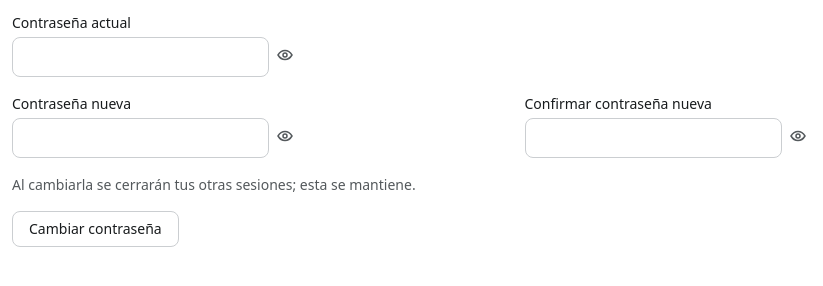
Scenario: FormularioContrasena › exige confirmación coincidente y que la nueva sea distinta de la actual
Type "contrasena-larga" into the password field labelled "Contraseña actual".
click(140, 57); type("contrasena-larga")  # box left=12, top=37, right=269, bottom=77
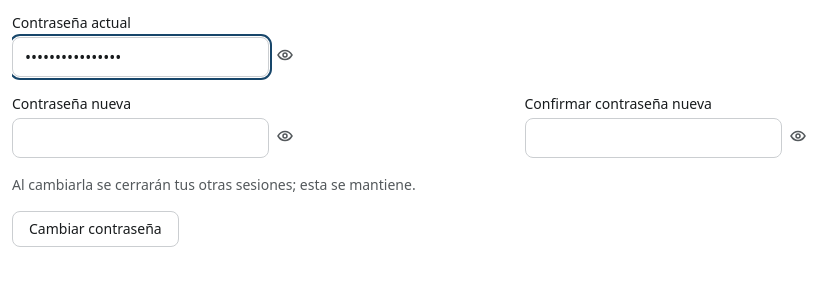
Type "contrasena-larga" into the password field labelled "Contraseña nueva".
click(140, 138); type("contrasena-larga")  # box left=12, top=118, right=269, bottom=158
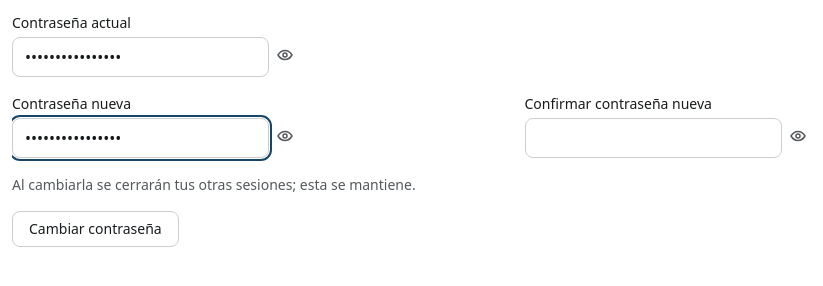
Type "no-coincide" into the password field labelled "Confirmar contraseña nueva".
click(653, 138); type("no-coincide")  # box left=524, top=118, right=782, bottom=158
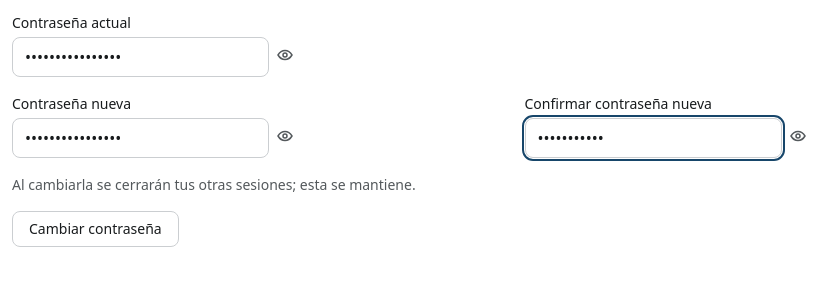
Click the button "Cambiar contraseña".
click(95, 229)  # box left=12, top=211, right=179, bottom=246
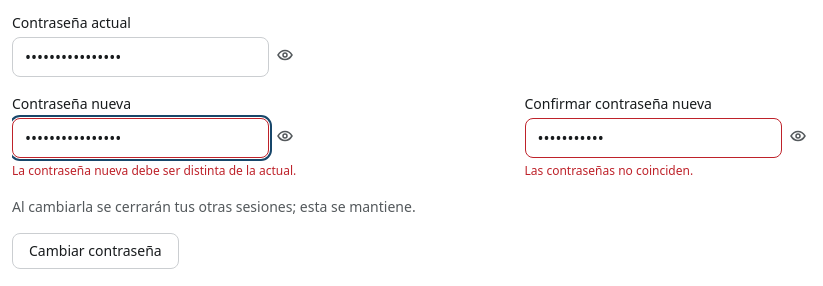
Check: the text "La contraseña nueva debe ser distinta de la actual." is shown, box left=12, top=162, right=296, bottom=179
Check: the text "Las contraseñas no coinciden." is shown, box left=524, top=162, right=693, bottom=179
